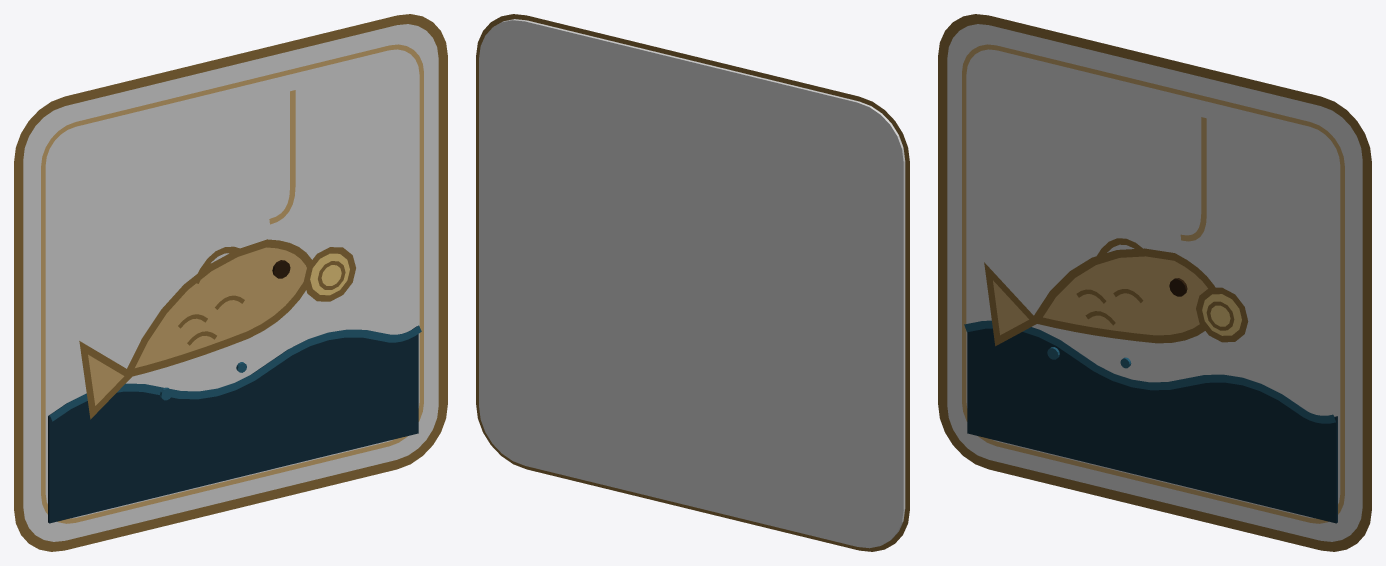
The model's file is obj-ryba-statir.glb.
3 views of the same model, side by side, from view 1: azimuth 30°, elevation 25°; view 2: azimuth 150°, elevation 25°; view 3: azimuth 330°, elevation 25° (orthographic).
Visible parts, largest first — view 1: obj-ryba-statir; view 2: obj-ryba-statir; view 3: obj-ryba-statir.
Boxes of the visible parts, left/top/right/bottom form: obj-ryba-statir: left=14, top=14, right=447, bottom=551; obj-ryba-statir: left=476, top=14, right=909, bottom=551; obj-ryba-statir: left=938, top=14, right=1371, bottom=551.
Size of the model in its own units: 0.3917 by 0.3917 by 0.035.
